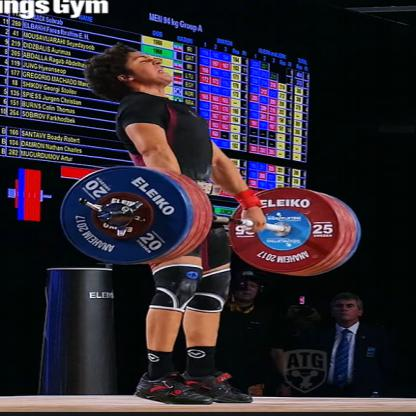Barbell: (54, 158, 210, 272)
